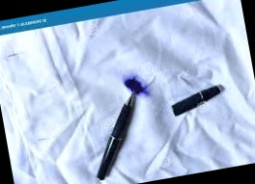ink: (124, 73, 149, 96)
